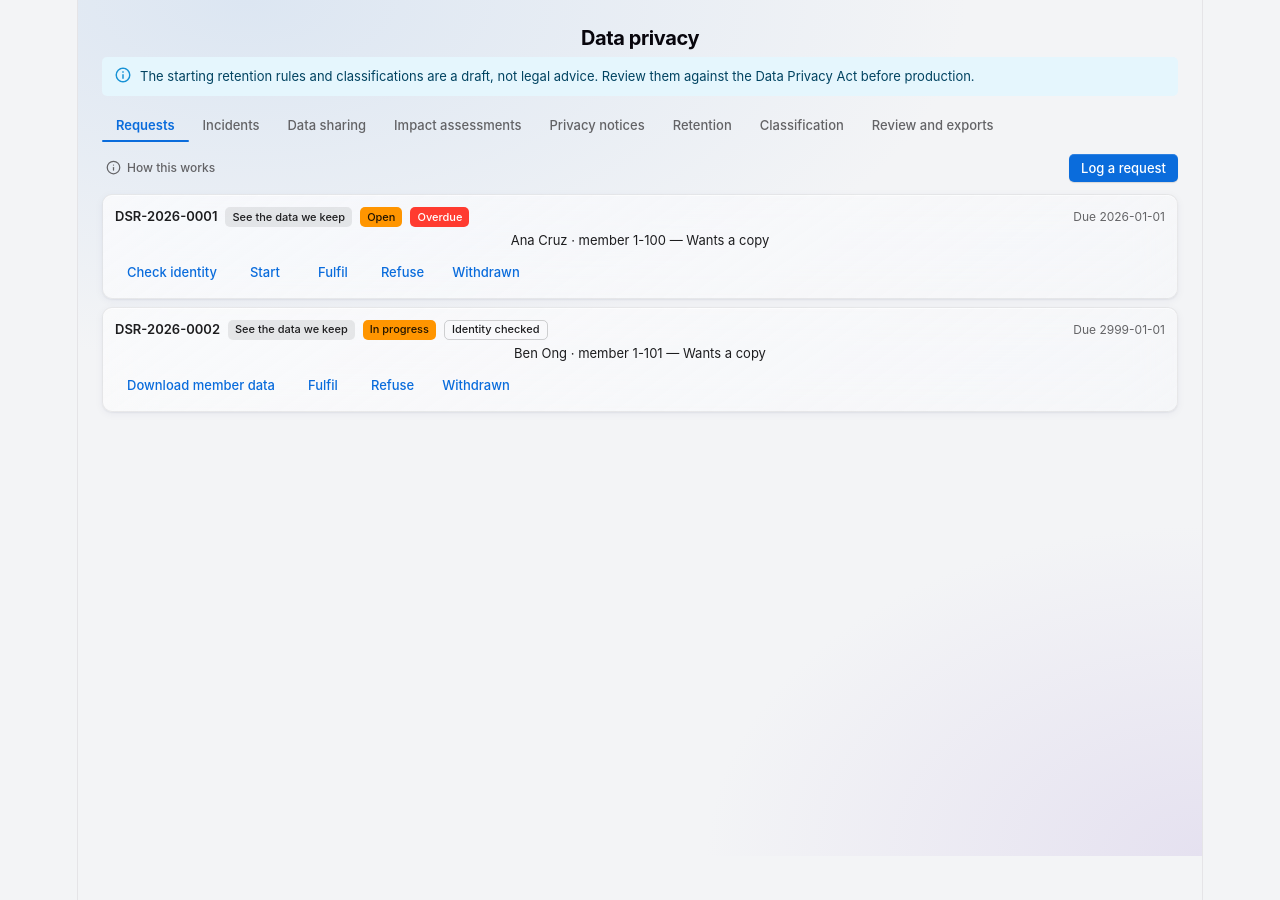
Test: data privacy › lists what needs a decision, with the draft warning
Click the tab "Review and exports". click: {"x": 933, "y": 125}
box: [858,108,1008,142]
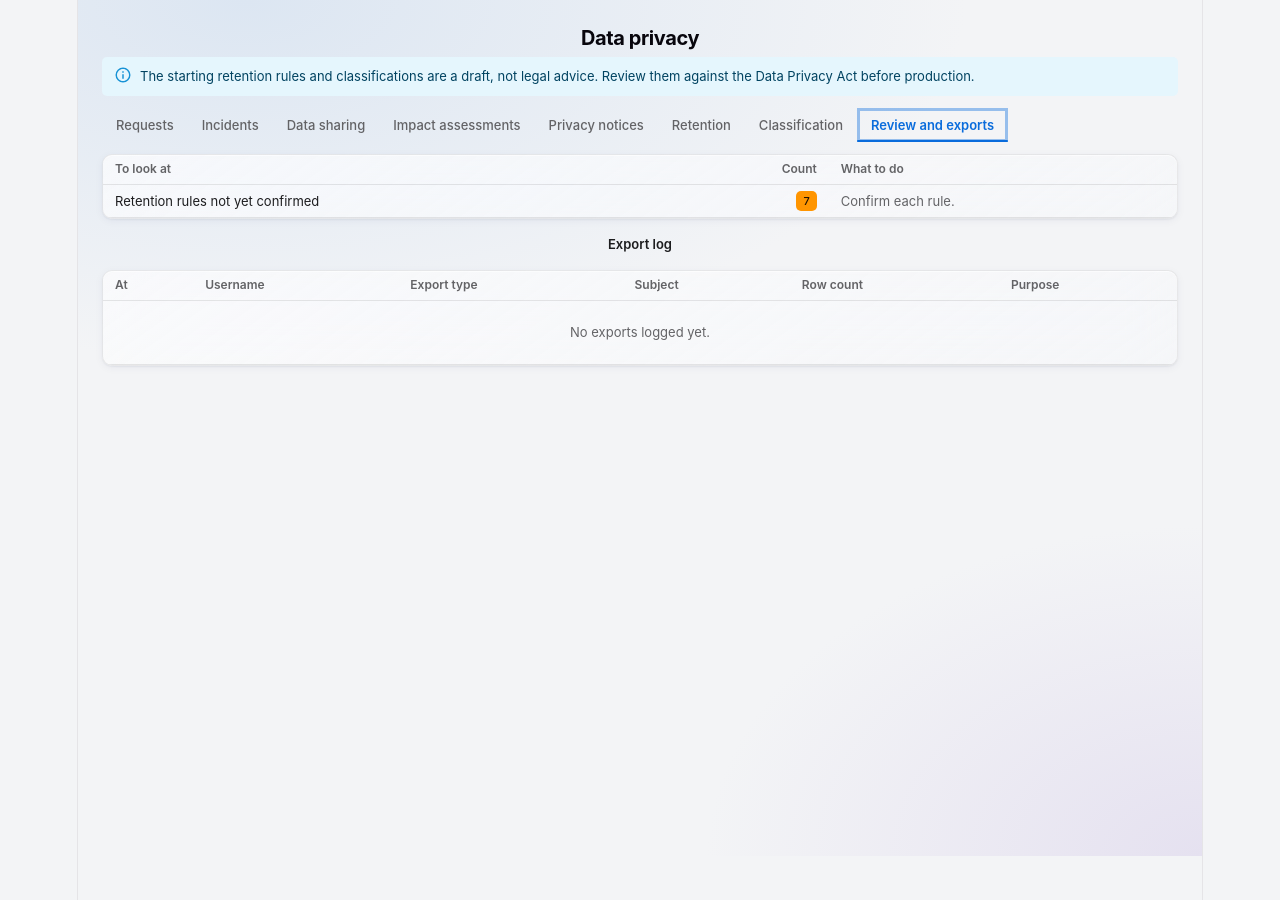
Expected: the text "not legal advice" is shown, [140,68,975,84]
Now the text "Retention rules not yet confirmed" is shown, box [103,184,680,218]
